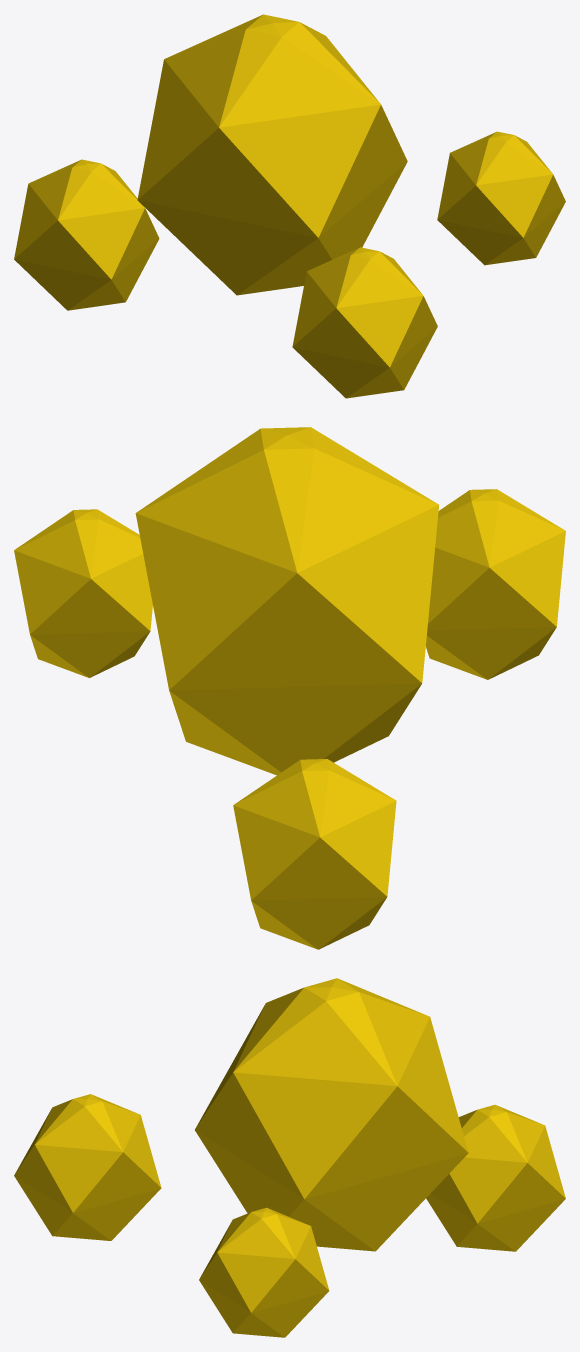
Rendered from Gold.dae.
3 views of the same model, one above another, from view 1: azimuth 30°, elevation 25°; view 2: azimuth 150°, elevation 25°; view 3: azimuth 270°, elevation 25° (orthographic). The views are drawn at different scales.
Parts seen in each view (by area): view 1: Sphere, Sphere_001, Sphere_002, Sphere_003; view 2: Sphere, Sphere_002, Sphere_001, Sphere_003; view 3: Sphere, Sphere_001, Sphere_002, Sphere_003.
Boxes of the visible parts, box(x1,y1,x2,y2) form: Sphere: box(137, 14, 407, 295); Sphere_001: box(292, 247, 437, 398); Sphere_002: box(14, 159, 159, 310); Sphere_003: box(437, 131, 565, 265); Sphere: box(135, 427, 438, 775); Sphere_002: box(233, 759, 396, 949); Sphere_001: box(426, 489, 565, 679); Sphere_003: box(14, 509, 152, 677); Sphere: box(195, 978, 468, 1251); Sphere_001: box(14, 1094, 161, 1240); Sphere_002: box(426, 1104, 565, 1251); Sphere_003: box(199, 1207, 329, 1337).
Size of the model in its own units: 0.8544 by 0.9904 by 0.6155.
